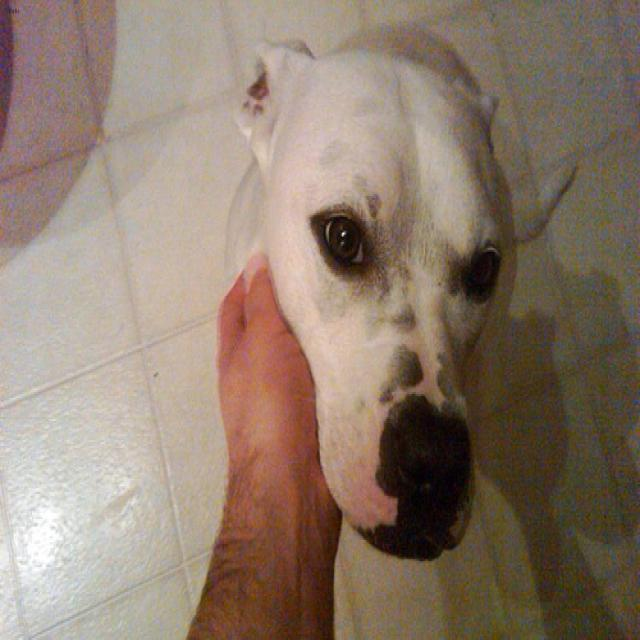dog-american_pit_bull_terrier: (212, 4, 512, 569)
